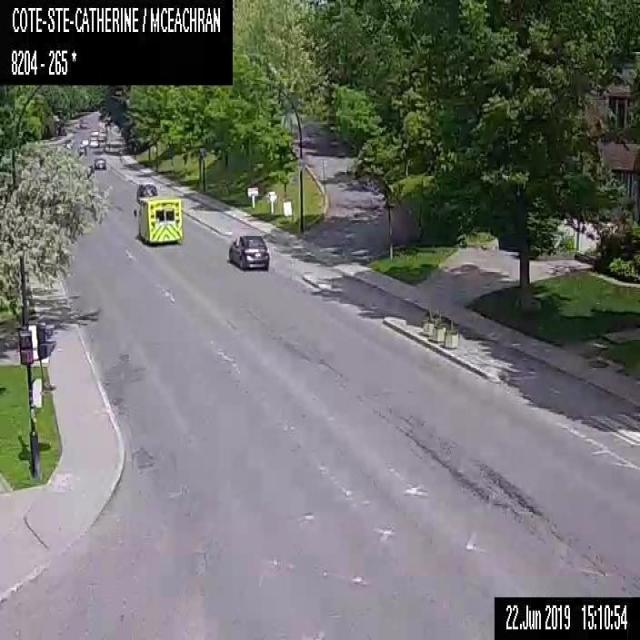vehicle: (132, 193, 182, 244), (228, 233, 269, 270), (136, 180, 157, 202), (94, 156, 105, 169), (89, 136, 98, 147), (78, 144, 86, 154), (90, 127, 98, 136), (79, 120, 87, 128), (81, 138, 88, 145)
